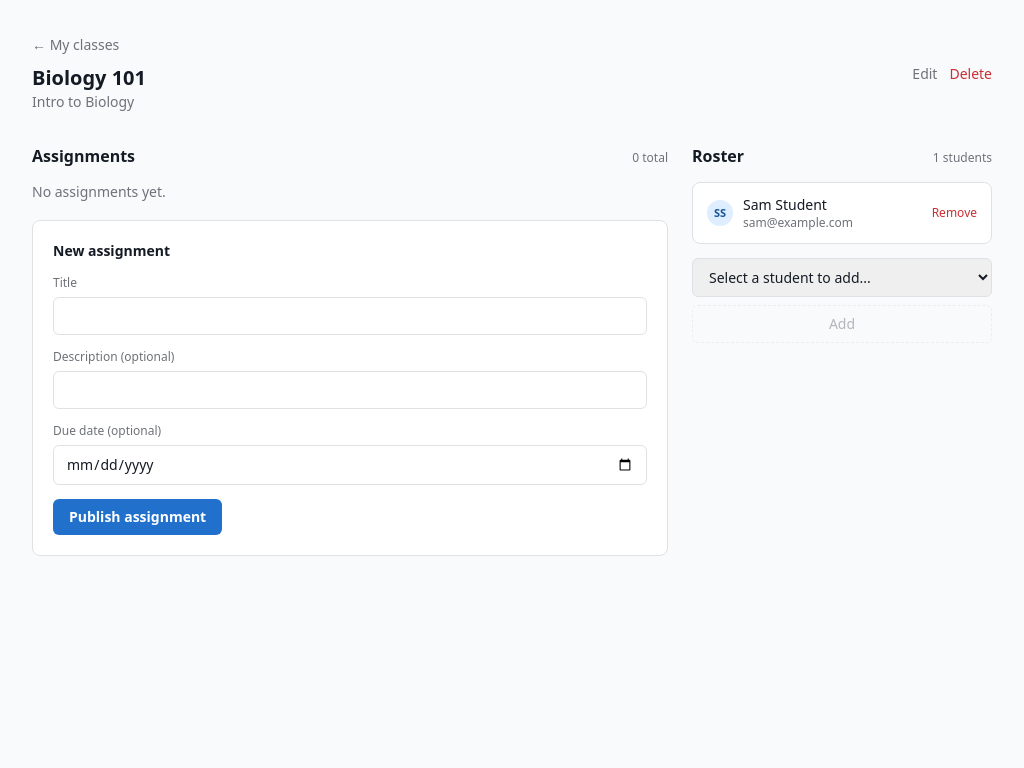
ClassDetailPage › shows an error when removing a student fails
This screenshot has width=1024, height=768.
Expected: the text "Sam Student" is shown, 743,195 -> 827,214
Click the button "Remove" at x=954, y=213, box 932,205 -> 977,221
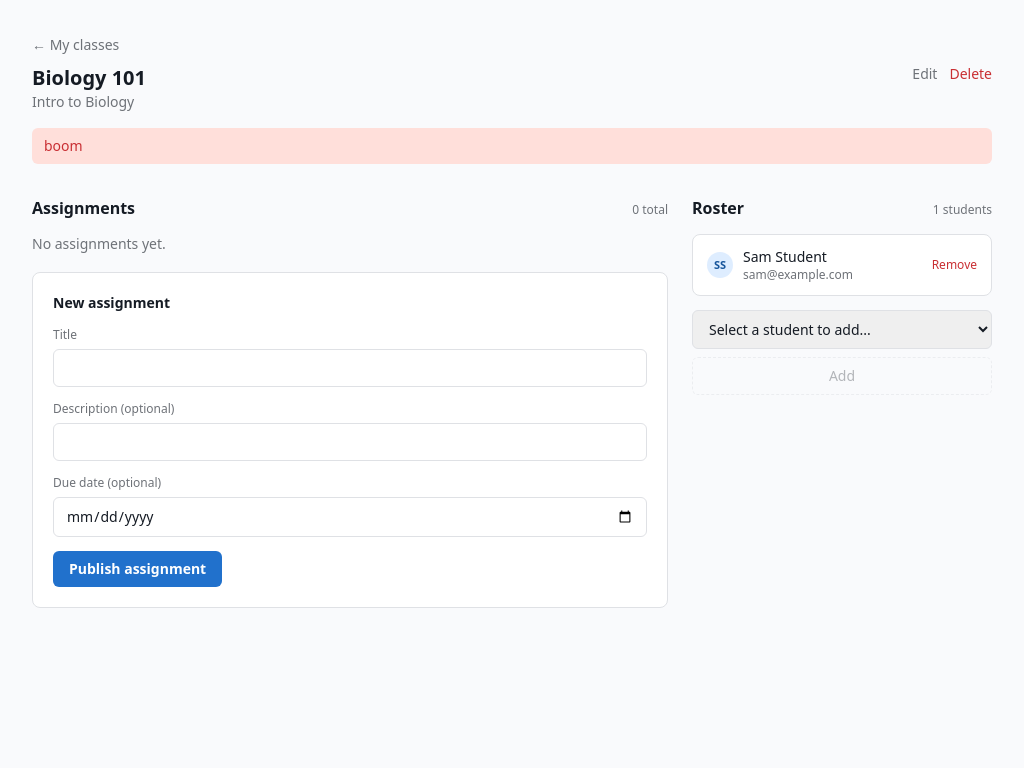
Expected: the message reads "boom", 44,136 -> 83,155
